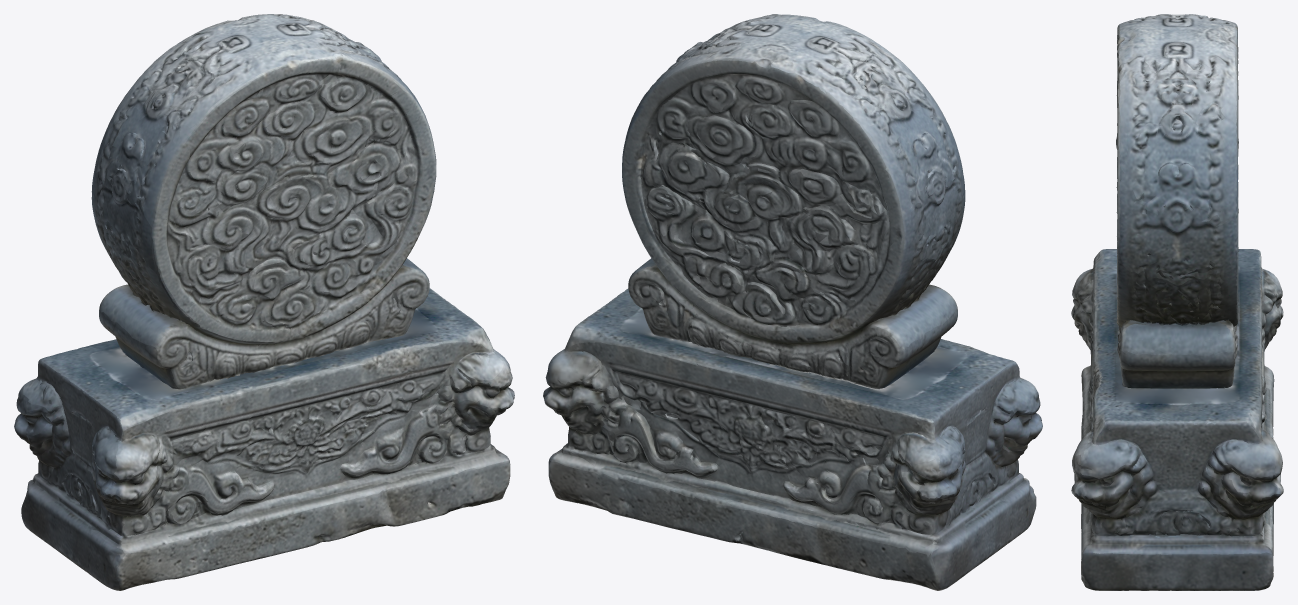
The model's file is gate-pier.glb.
3 renders of one model, left to right at view 1: azimuth 30°, elevation 25°; view 2: azimuth 150°, elevation 25°; view 3: azimuth 270°, elevation 25°, orthographic. The views are drawn at different scales.
Visible parts, largest first — view 1: geometry_0; view 2: geometry_0; view 3: geometry_0.
Part boxes in pixels (box(x1,y1,x2,y2)): geometry_0: box(14, 14, 514, 590); geometry_0: box(543, 14, 1042, 590); geometry_0: box(1071, 14, 1283, 590).
Bounding box in the file's own units: 0.9904 × 1.1 × 0.4559.
Materials: 1 (1 with a texture image).
